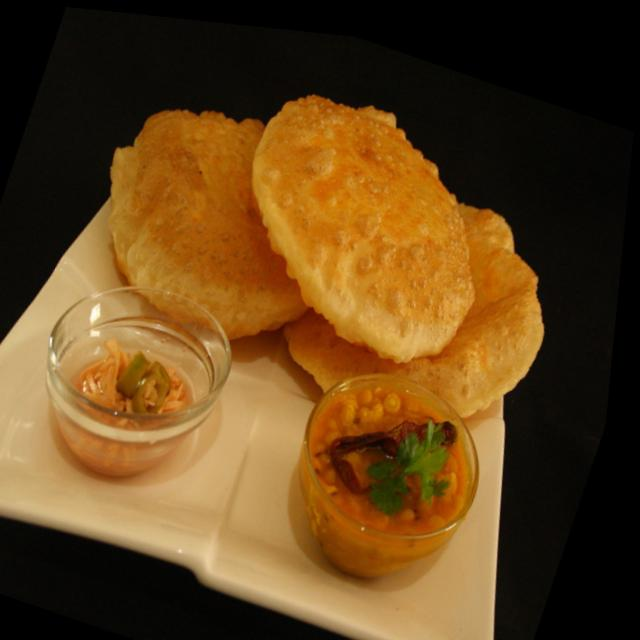CURRY: (315, 383, 472, 532)
POORI: (100, 95, 550, 420)
VEGGIES: (70, 343, 195, 415)
